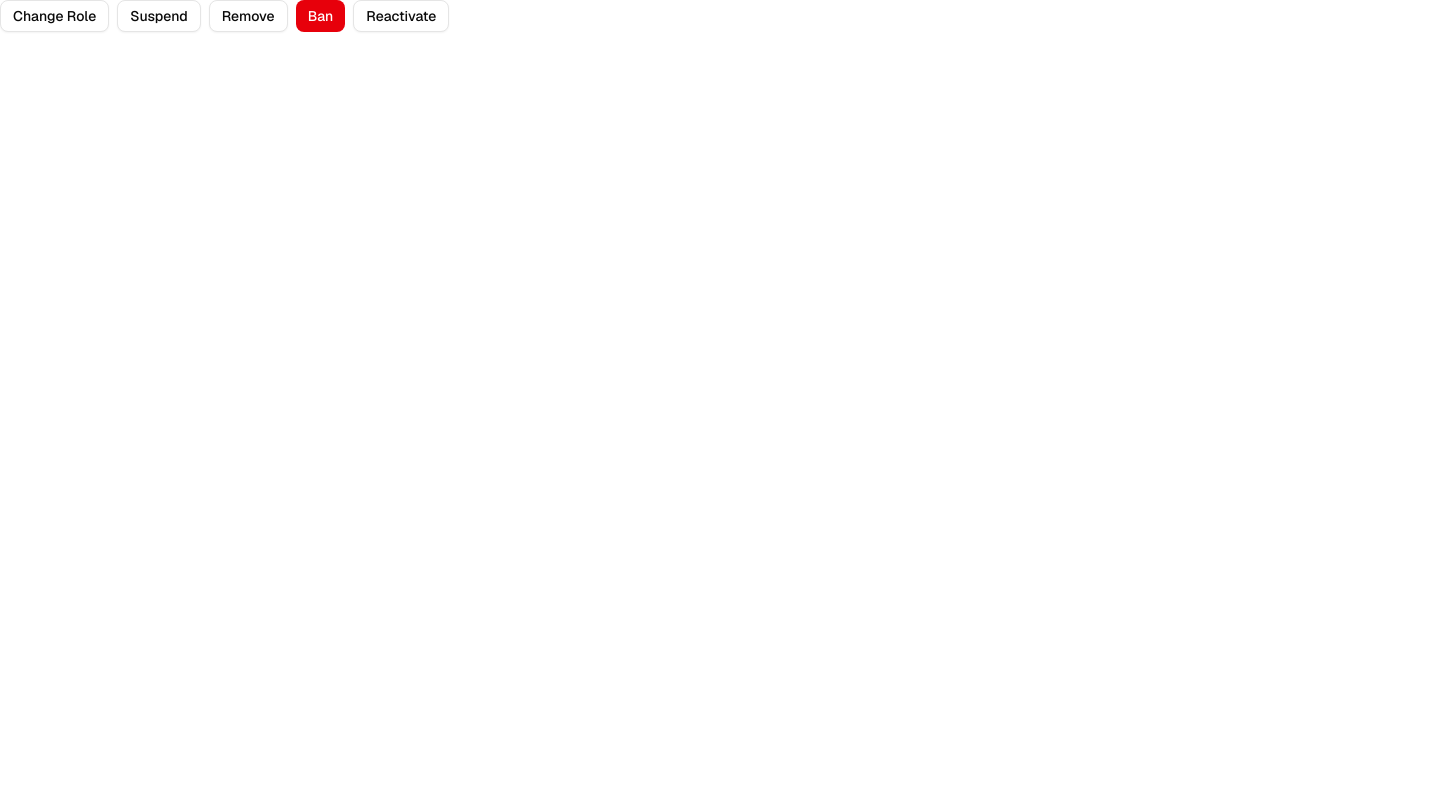
Scenario: MemberActions › opens reactivate dialog
Click the button "Reactivate": point(401, 16) [353,0,449,32]
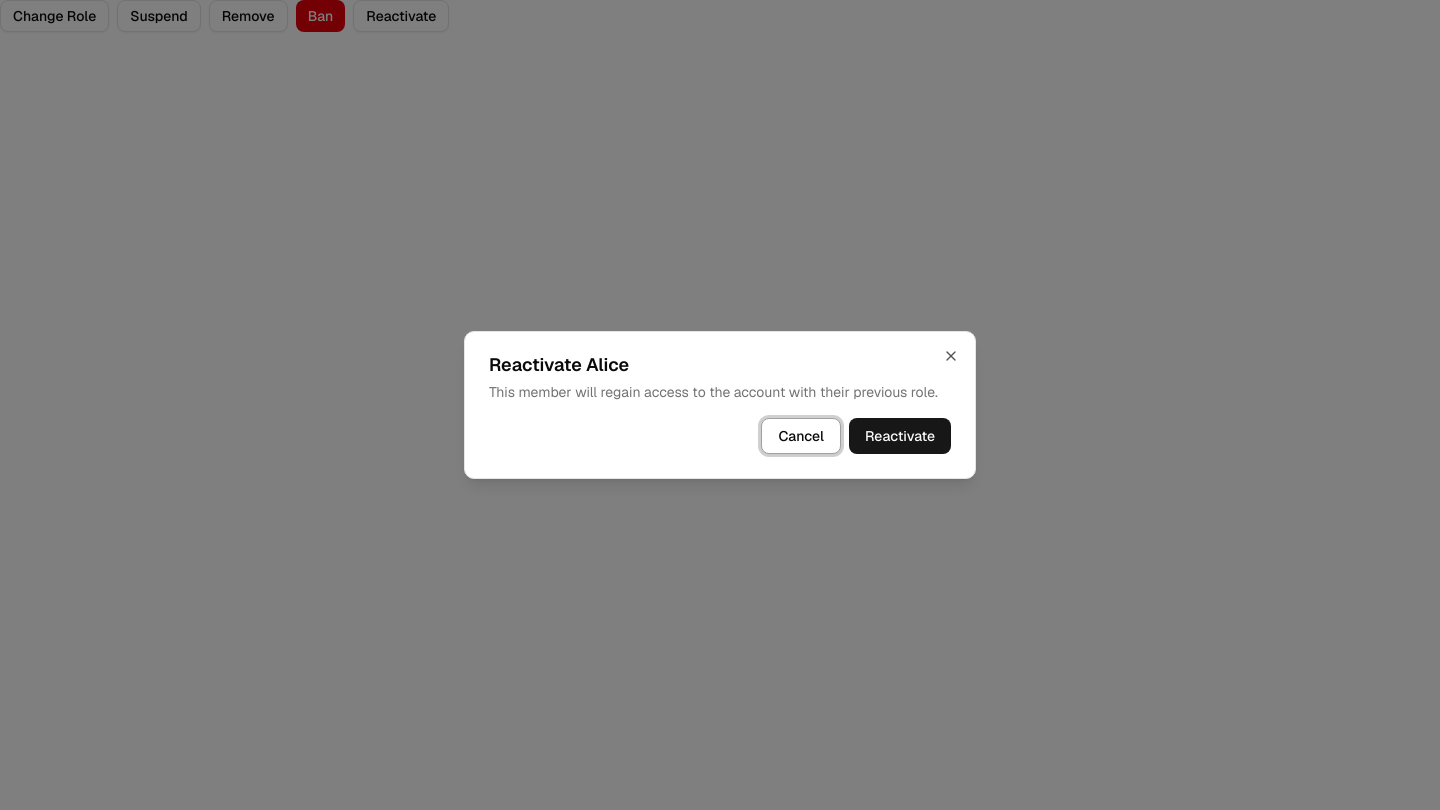
Now the heading "Reactivate Alice" is shown, box [489,353,629,376]
